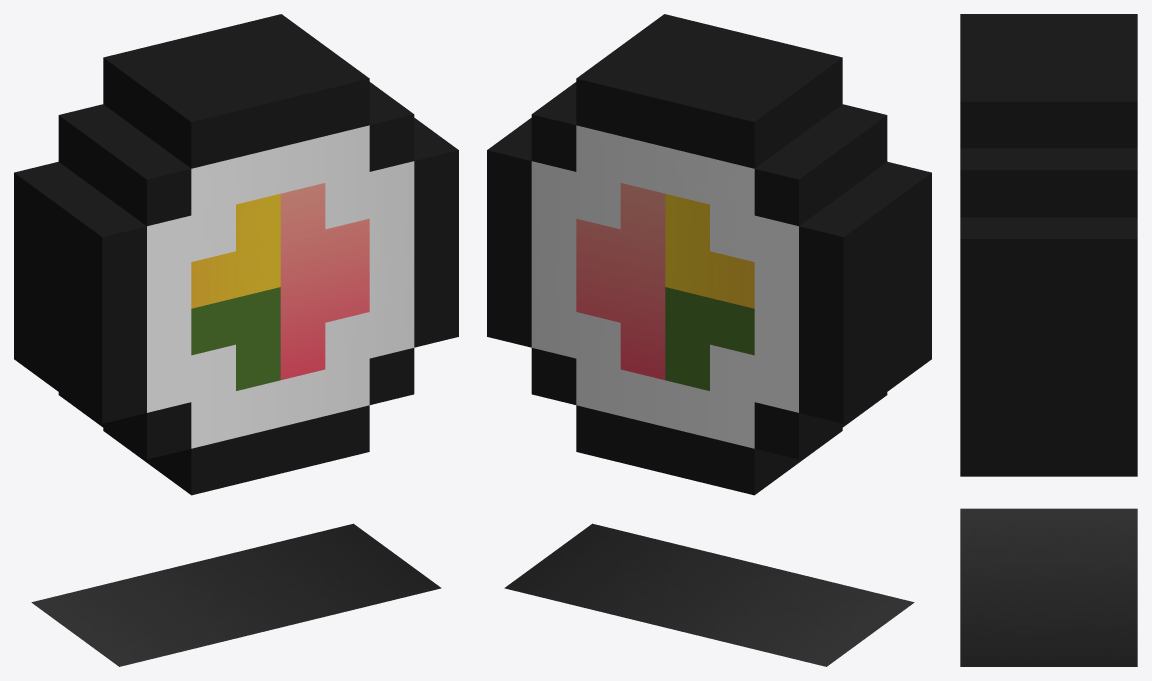
File: sushi.glb
3 renders of one model, left to right at view 1: azimuth 30°, elevation 25°; view 2: azimuth 150°, elevation 25°; view 3: azimuth 270°, elevation 25°, orthographic.
Parts seen in each view (by area): view 1: item.sushi; view 2: item.sushi; view 3: item.sushi.
Part boxes in pixels (x1,y1,x2,y2): item.sushi: [14, 14, 458, 666]; item.sushi: [487, 14, 931, 666]; item.sushi: [960, 14, 1137, 666].
Size of the model in its own units: 2 by 2.82 by 0.8575.
1 material, 1 textured.
